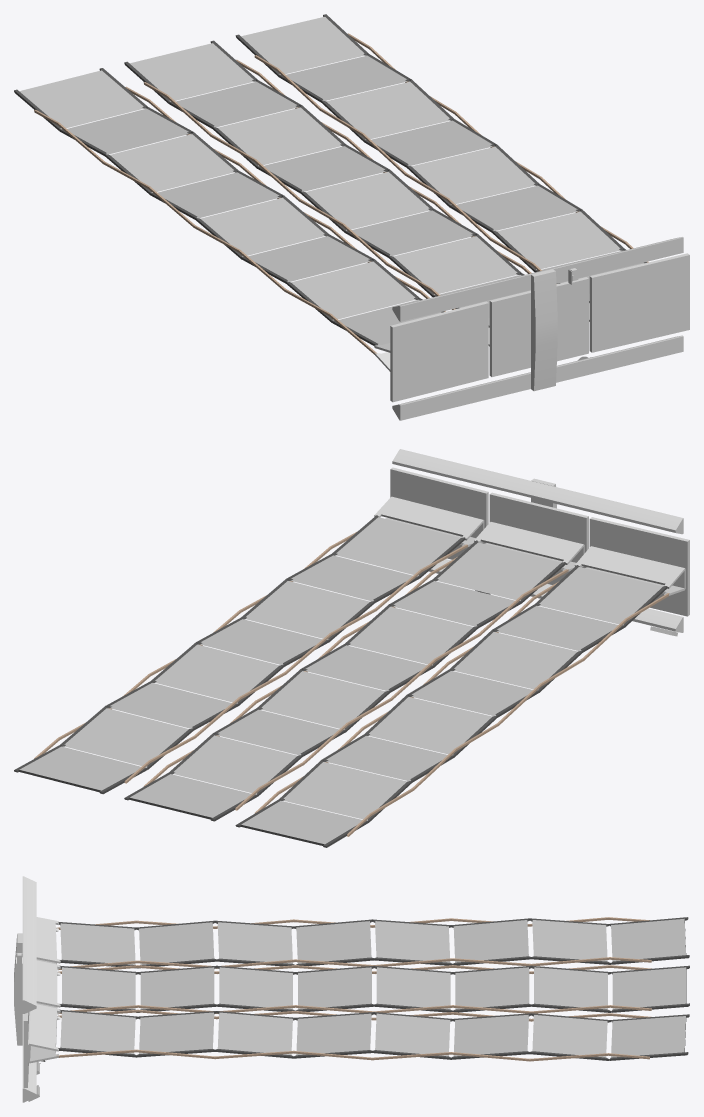
The model's file is TCS.FBX.
3 renders of one model, top to bottom at view 1: azimuth 30°, elevation 25°; view 2: azimuth 150°, elevation 25°; view 3: azimuth 270°, elevation 25°, orthographic. The views are drawn at different scales.
Parts seen in each view (by area): view 1: tcs_p; view 2: tcs_p; view 3: tcs_p.
Part boxes in pixels (x1,y1,x2,y2): tcs_p: [14, 14, 689, 420]; tcs_p: [14, 449, 689, 847]; tcs_p: [14, 876, 689, 1102].
Size of the model in its own units: 11.61 by 4.22 by 24.15.
Materials: 6 (1 with a texture image).
